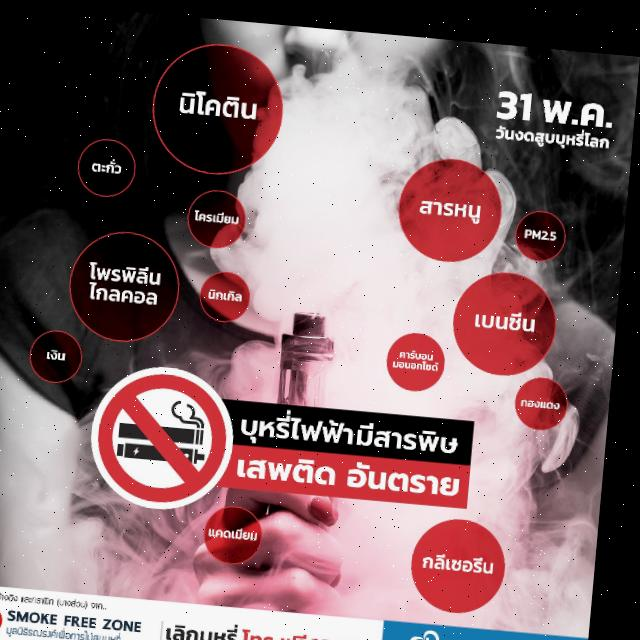vape: (274, 304, 343, 511)
